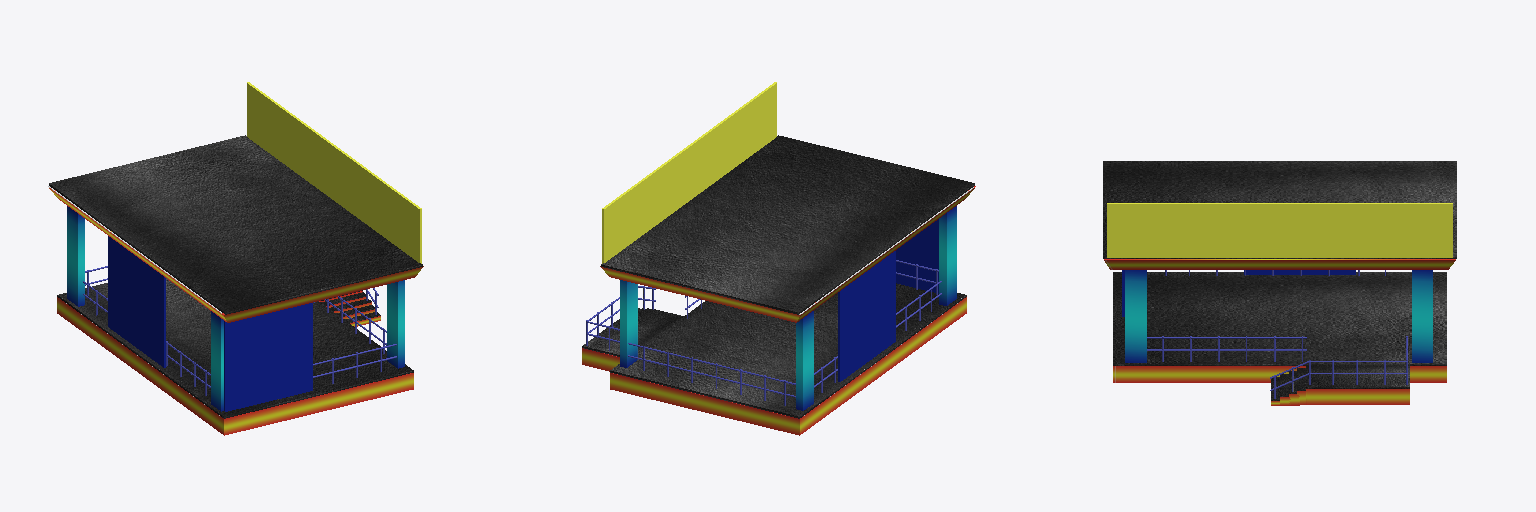
3 views of the same model, side by side, from view 1: azimuth 30°, elevation 25°; view 2: azimuth 150°, elevation 25°; view 3: azimuth 270°, elevation 25° (orthographic).
Visible parts, largest first — view 1: pasted__pasted__pCube1 pasted__group group48, pasted__pCube1 group, pasted__pasted__pCube2 pasted__group1 group16, pasted__pCube2 group1, pCube1, pasted__pasted__pCube2 pasted__group1 group3, pasted__pCube1 group6, pasted__pasted__pCube2 pasted__group2 group4, pCube2, pasted__pCube2 group2; view 2: pasted__pasted__pCube1 pasted__group group48, pasted__pCube1 group, pasted__pasted__pCube2 pasted__group1 group16, pCube1, pasted__pasted__pCube2 pasted__group1 group3, pasted__pCube1 group6, pasted__pCube2 group1, pasted__pasted__pCube2 pasted__group2 group4, pasted__pCube2 group2, group7 pasted__pasted__pCube1 pasted__group, pasted__pasted__pasted__pCube2 pasted__pasted__group2 pasted__gr, pasted__pCube1 group7; view 3: pasted__pCube1 group, pasted__pasted__pCube2 pasted__group1 group16, pasted__pasted__pCube1 pasted__group group48, pasted__pCube1 group6, pCube1, group7 pasted__pasted__pCube1 pasted__group, pCube2, pasted__pasted__pasted__pCube2 pasted__pasted__group2 pasted__gr, pasted__pCube1 group7, pasted__pasted__pCube2 pasted__group1 group3.
Boxes of the visible parts, <box> form: pasted__pasted__pCube1 pasted__group group48: <box>49,135,422,314</box>; pasted__pCube1 group: <box>57,278,413,418</box>; pasted__pasted__pCube2 pasted__group1 group16: <box>247,82,421,263</box>; pasted__pCube2 group1: <box>224,303,312,411</box>; pCube1: <box>57,297,413,435</box>; pasted__pasted__pCube2 pasted__group1 group3: <box>108,236,165,367</box>; pasted__pCube1 group6: <box>48,186,423,322</box>; pasted__pasted__pCube2 pasted__group2 group4: <box>67,206,84,306</box>; pCube2: <box>387,280,404,368</box>; pasted__pCube2 group2: <box>211,311,223,411</box>; pasted__pasted__pCube1 pasted__group group48: <box>601,135,974,314</box>; pasted__pCube1 group: <box>610,283,966,418</box>; pasted__pasted__pCube2 pasted__group1 group16: <box>602,82,776,263</box>; pCube1: <box>610,297,966,435</box>; pasted__pasted__pCube2 pasted__group1 group3: <box>838,251,895,381</box>; pasted__pCube1 group6: <box>600,186,975,322</box>; pasted__pCube2 group1: <box>896,219,938,293</box>; pasted__pasted__pCube2 pasted__group2 group4: <box>796,311,813,410</box>; pasted__pCube2 group2: <box>939,206,956,305</box>; group7 pasted__pasted__pCube1 pasted__group: <box>582,309,679,356</box>; pasted__pasted__pasted__pCube2 pasted__pasted__group2 pasted__gr: <box>620,280,637,367</box>; pasted__pCube1 group7: <box>582,348,619,371</box>; pasted__pCube1 group: <box>1113,272,1446,365</box>; pasted__pasted__pCube2 pasted__group1 group16: <box>1107,203,1452,257</box>; pasted__pasted__pCube1 pasted__group group48: <box>1103,161,1456,258</box>; pasted__pCube1 group6: <box>1104,259,1455,269</box>; pCube1: <box>1113,366,1446,382</box>; group7 pasted__pasted__pCube1 pasted__group: <box>1306,364,1409,388</box>; pCube2: <box>1125,270,1146,362</box>; pasted__pasted__pasted__pCube2 pasted__pasted__group2 pasted__gr: <box>1412,270,1432,362</box>; pasted__pCube1 group7: <box>1306,389,1409,404</box>; pasted__pasted__pCube2 pasted__group1 group3: <box>1244,270,1355,274</box>.
Size of the model in its own units: 15.11 by 10.9 by 19.19.
Materials: 16 (8 with a texture image).